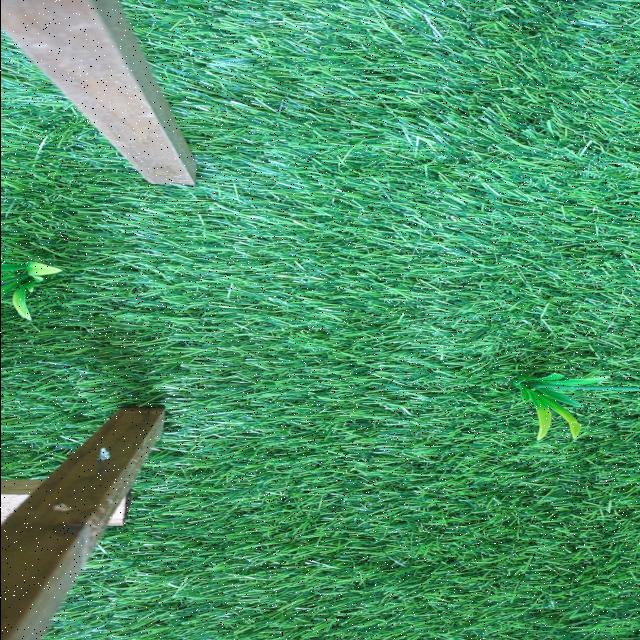base: (521, 370, 607, 440), (0, 255, 61, 319)
